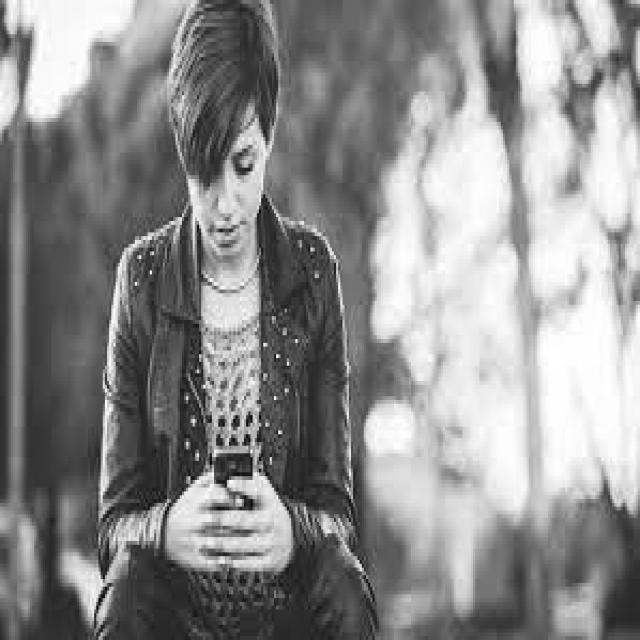No gun_phone: (214, 450, 254, 514)
